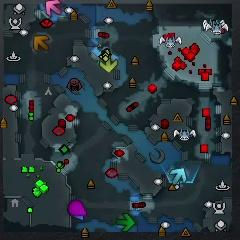p1: (74, 215, 85, 221)
p3: (68, 200, 87, 216)
x1: (45, 0, 62, 16)
x2: (99, 54, 118, 73)
x3: (170, 168, 186, 185)
x4: (116, 213, 134, 231)
x5: (33, 35, 49, 51)
